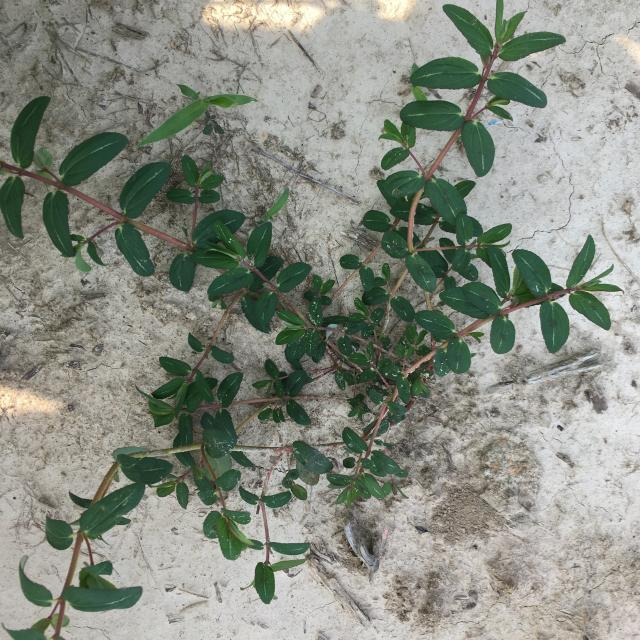SpottedSpurge: (0, 0, 626, 639)
